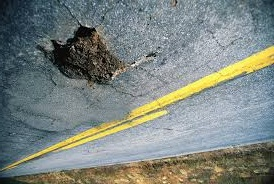pothole: (40, 20, 121, 96)
